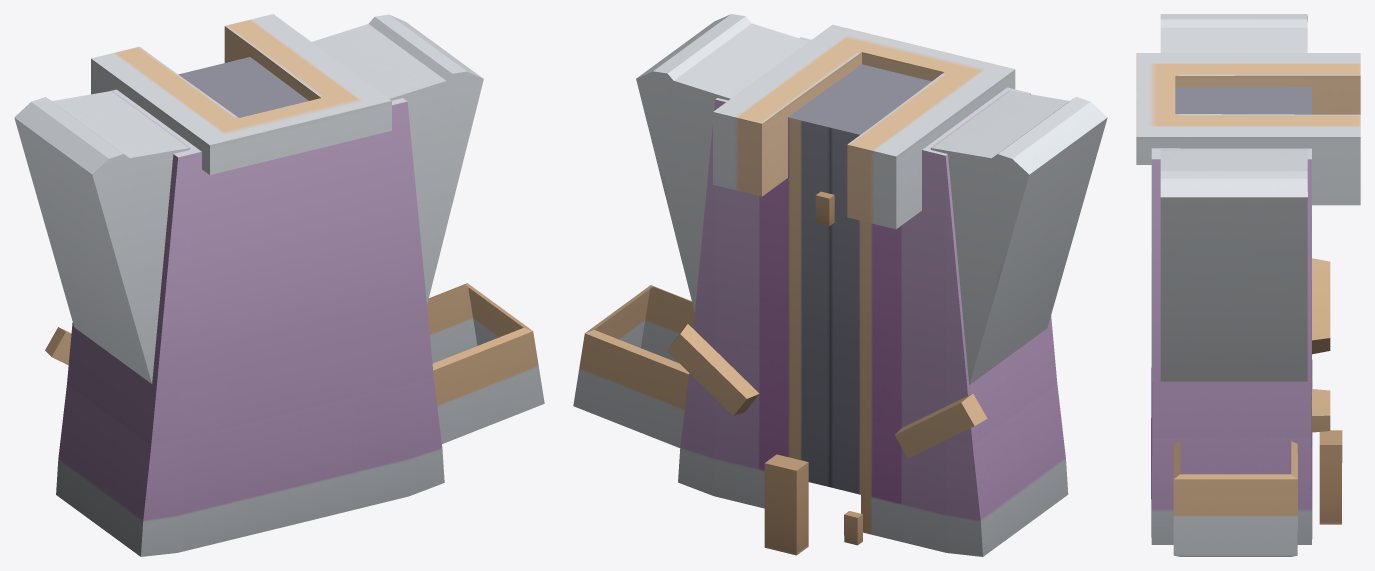
Rendered from B24_JACKET_yifu4_6.FBX.
3 renders of one model, left to right at view 1: azimuth 30°, elevation 25°; view 2: azimuth 150°, elevation 25°; view 3: azimuth 270°, elevation 25°, orthographic. The views are drawn at different scales.
Parts seen in each view (by area): view 1: B24_JACKET_yifu4_6; view 2: B24_JACKET_yifu4_6; view 3: B24_JACKET_yifu4_6.
Part boxes in pixels (box(x1,y1,x2,y2)): B24_JACKET_yifu4_6: box(14, 14, 544, 556); B24_JACKET_yifu4_6: box(573, 14, 1107, 556); B24_JACKET_yifu4_6: box(1136, 14, 1360, 556).
Size of the model in its own units: 83.28 by 74.64 by 37.27.
